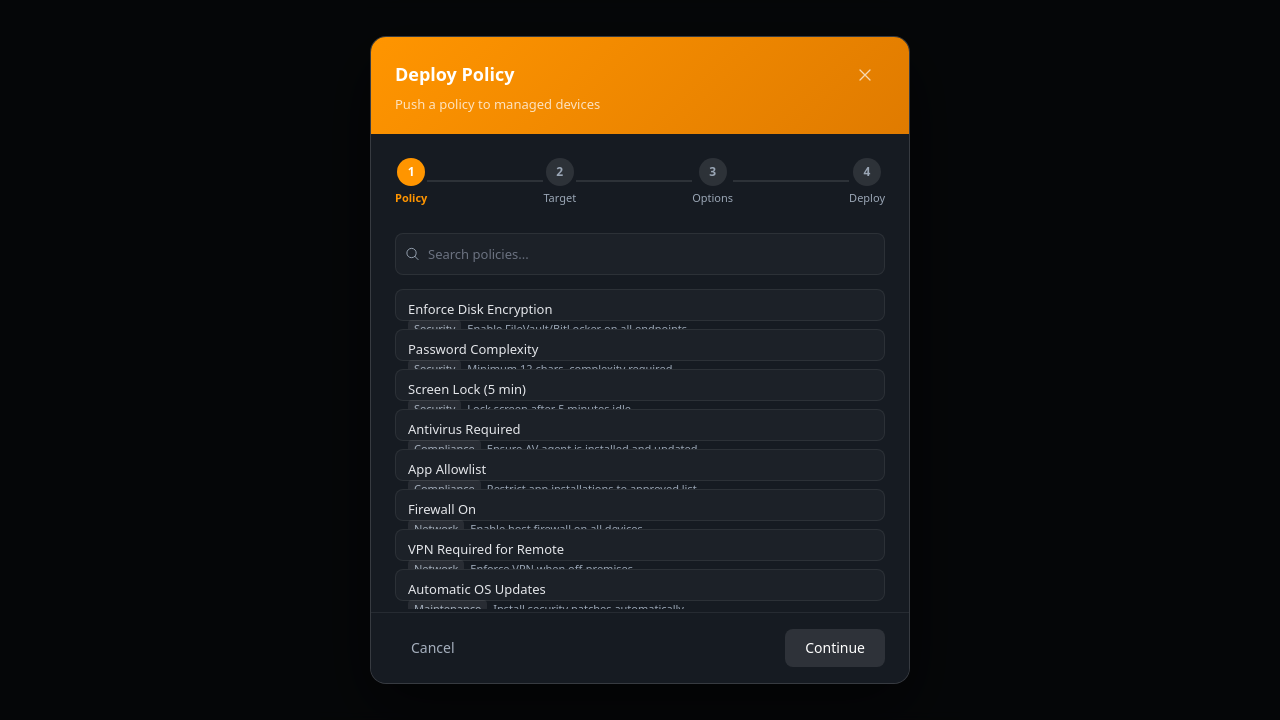
Test: PolicyDeployWizard › step 3 shows Enforced toggle
Click the text "Antivirus Required": (464, 429) [408,420,521,438]
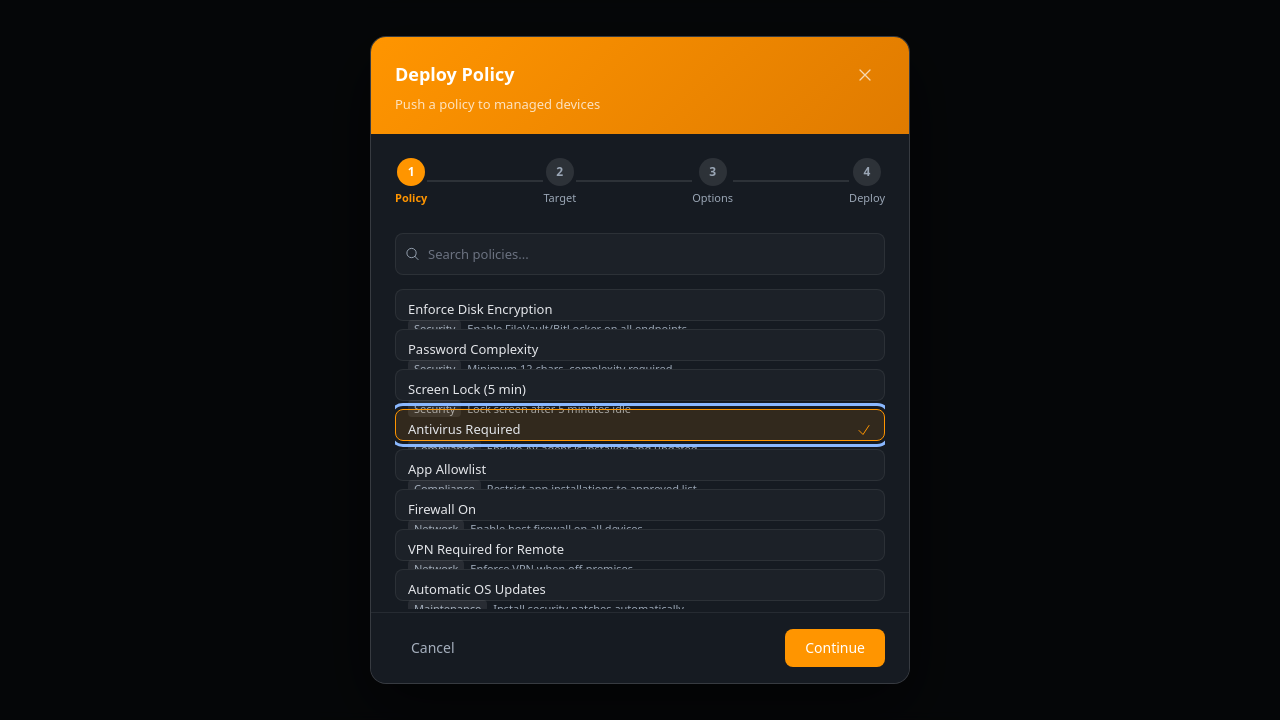
Click the button "Continue": (835, 648) [785,629,885,667]
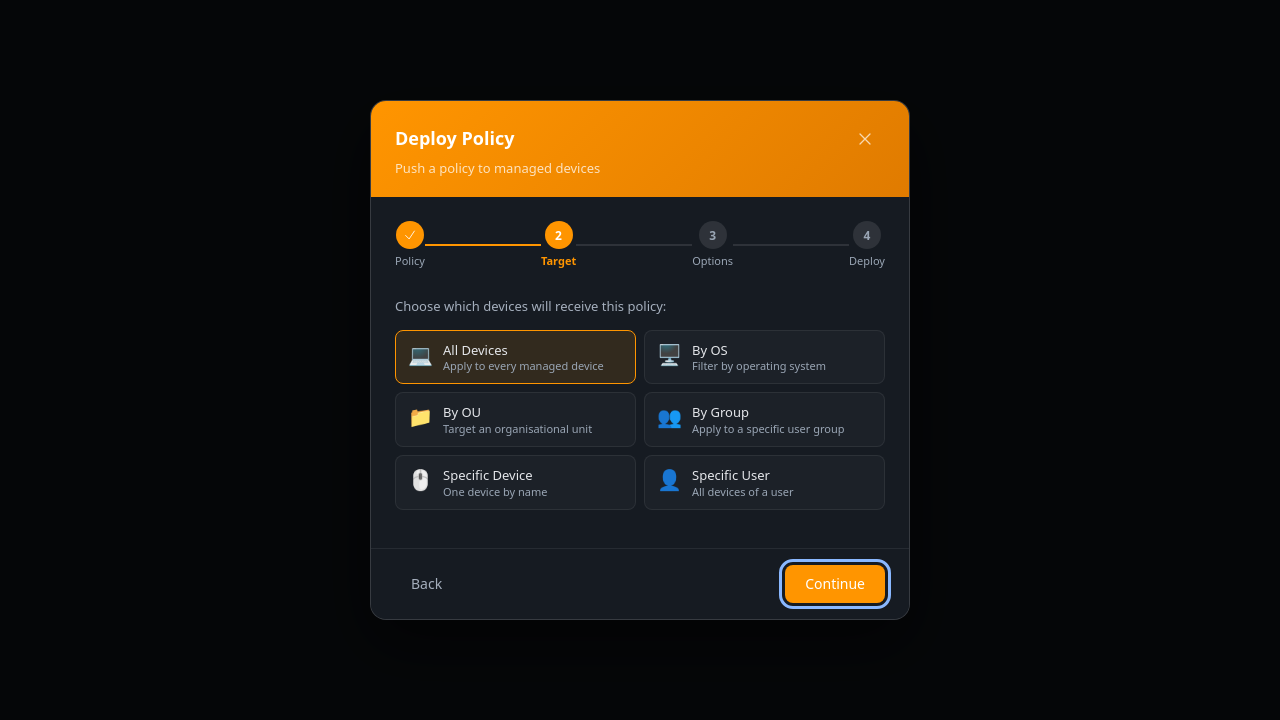
Click the button "Continue": (835, 584) [785,565,885,603]
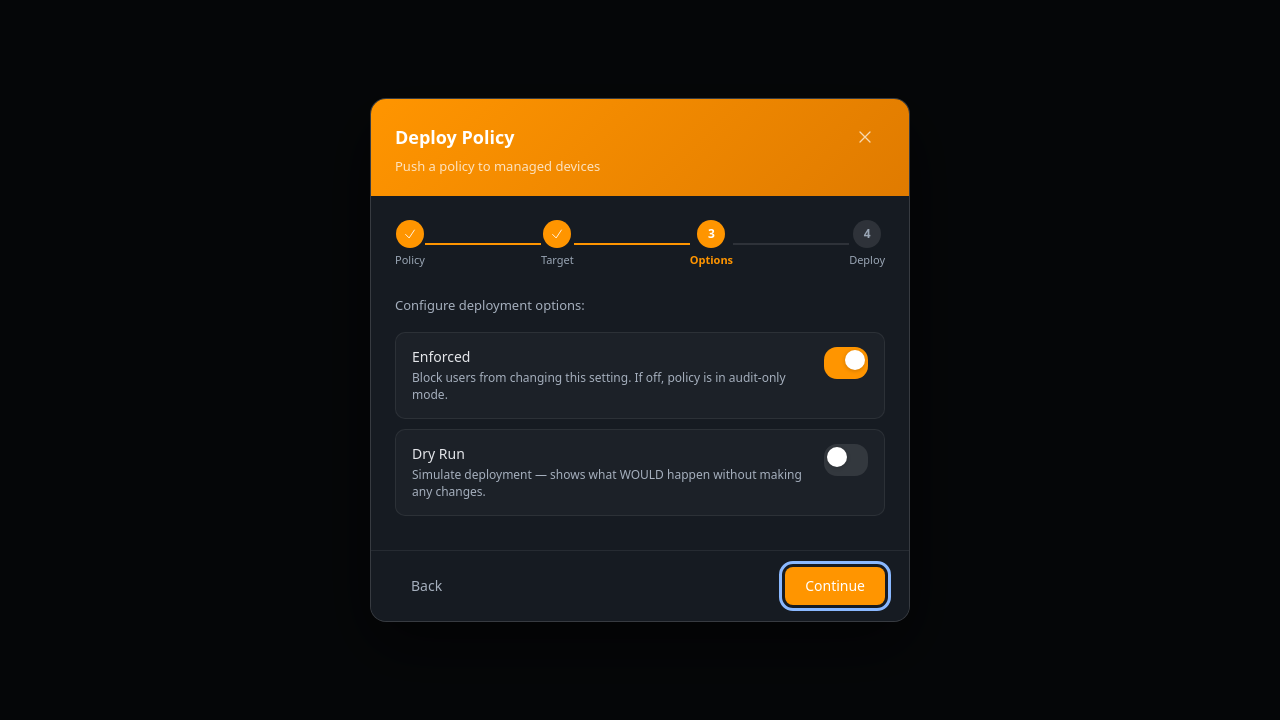
Check: the text "Enforced" is shown, box [412,347,470,366]
